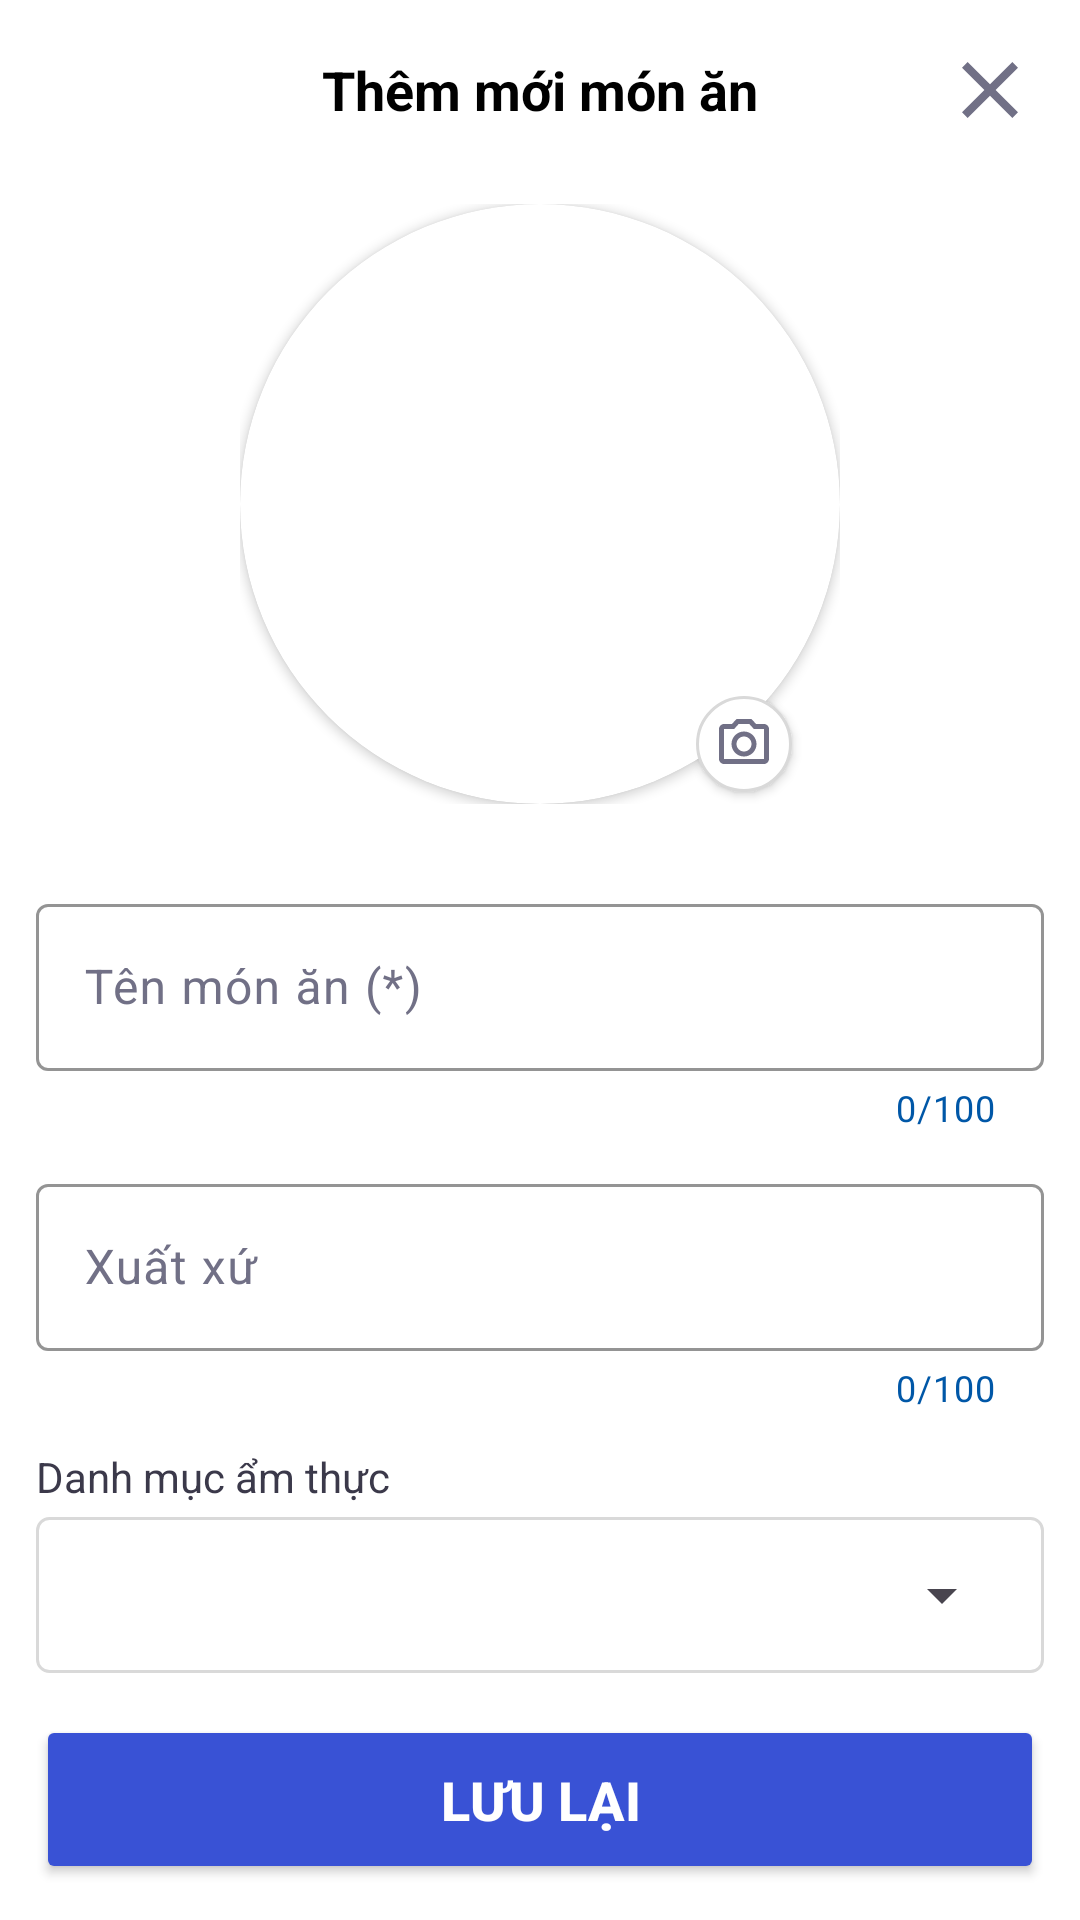

Point at icon controls on the screen. Image size 1080w x 1920h, points as (x,y).
camera: (744,741)
close: (990,90)
